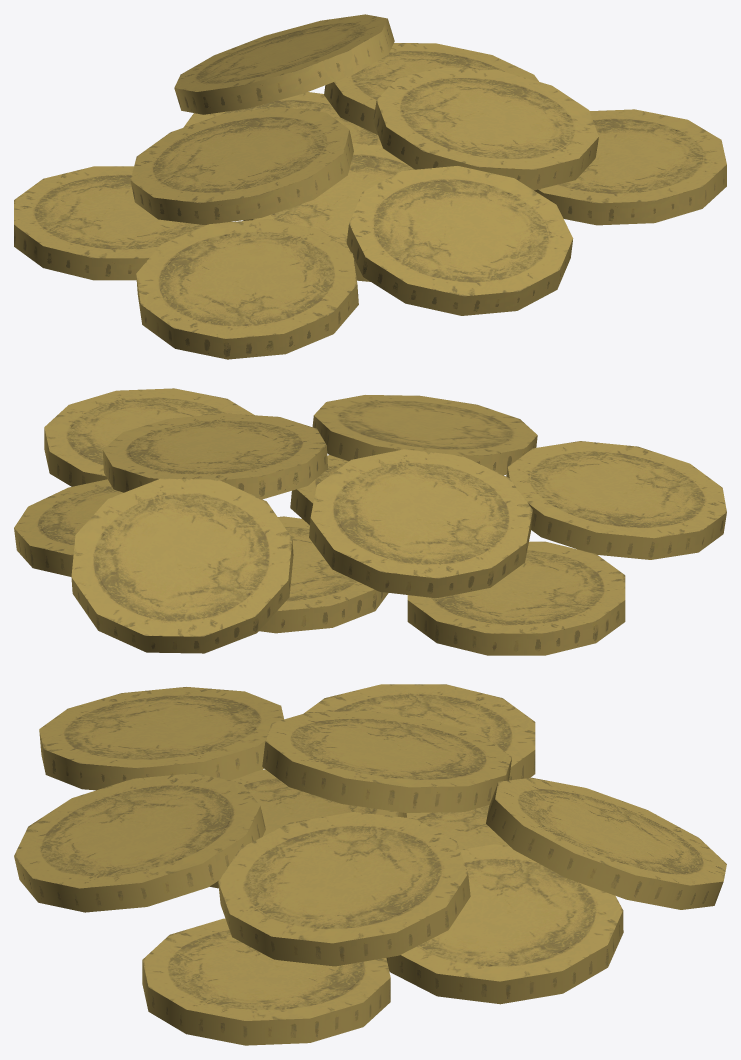
Rendered from Gold_Pile_Small.fbx.
3 renders of one model, top to bottom at view 1: azimuth 30°, elevation 25°; view 2: azimuth 150°, elevation 25°; view 3: azimuth 270°, elevation 25°, orthographic. The views are drawn at different scales.
Visible parts, largest first — view 1: Gold_Pile_Small; view 2: Gold_Pile_Small; view 3: Gold_Pile_Small.
Boxes of the visible parts, x1,y1,x2,y2 form: Gold_Pile_Small: [14, 14, 726, 359]; Gold_Pile_Small: [14, 388, 726, 655]; Gold_Pile_Small: [14, 684, 726, 1045].
Size of the model in its own units: 0.4429 by 0.0641 by 0.3963.
1 material, 1 textured.
